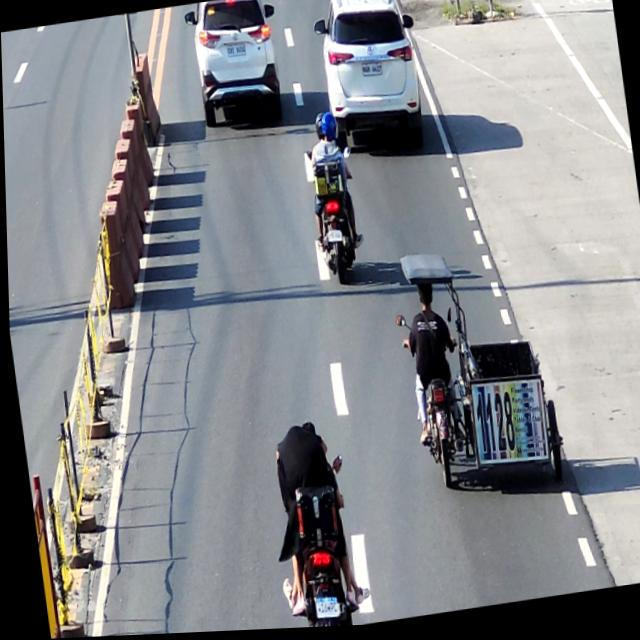Car: (309, 0, 430, 167), (181, 0, 287, 132)
License-Plate: (310, 598, 336, 622), (360, 64, 382, 80), (225, 45, 246, 60), (325, 231, 341, 246)
Motorcycle: (273, 453, 361, 631), (304, 146, 367, 290)
Tricycle: (383, 240, 564, 514)
